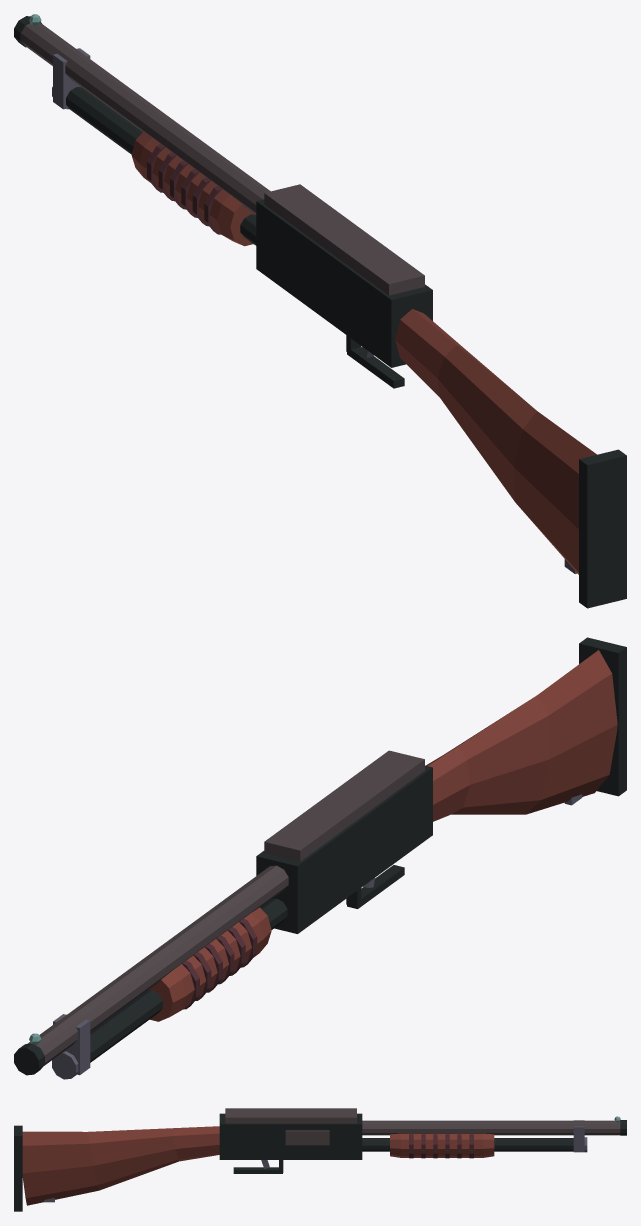
File: shotgun.glb
3 views of the same model, one above another, from view 1: azimuth 30°, elevation 25°; view 2: azimuth 150°, elevation 25°; view 3: azimuth 270°, elevation 25° (orthographic). The views are drawn at different scales.
Parts seen in each view (by area): view 1: Shotgun, Pompa; view 2: Shotgun, Pompa; view 3: Shotgun, Pompa.
Part boxes in pixels (<box>): Shotgun: <box>14,14,626,608</box>; Pompa: <box>131,132,254,246</box>; Shotgun: <box>14,637,626,1079</box>; Pompa: <box>148,907,271,1021</box>; Shotgun: <box>14,1108,626,1211</box>; Pompa: <box>390,1133,494,1158</box>.
Size of the model in its own units: 0.0543 by 0.188 by 1.12.
